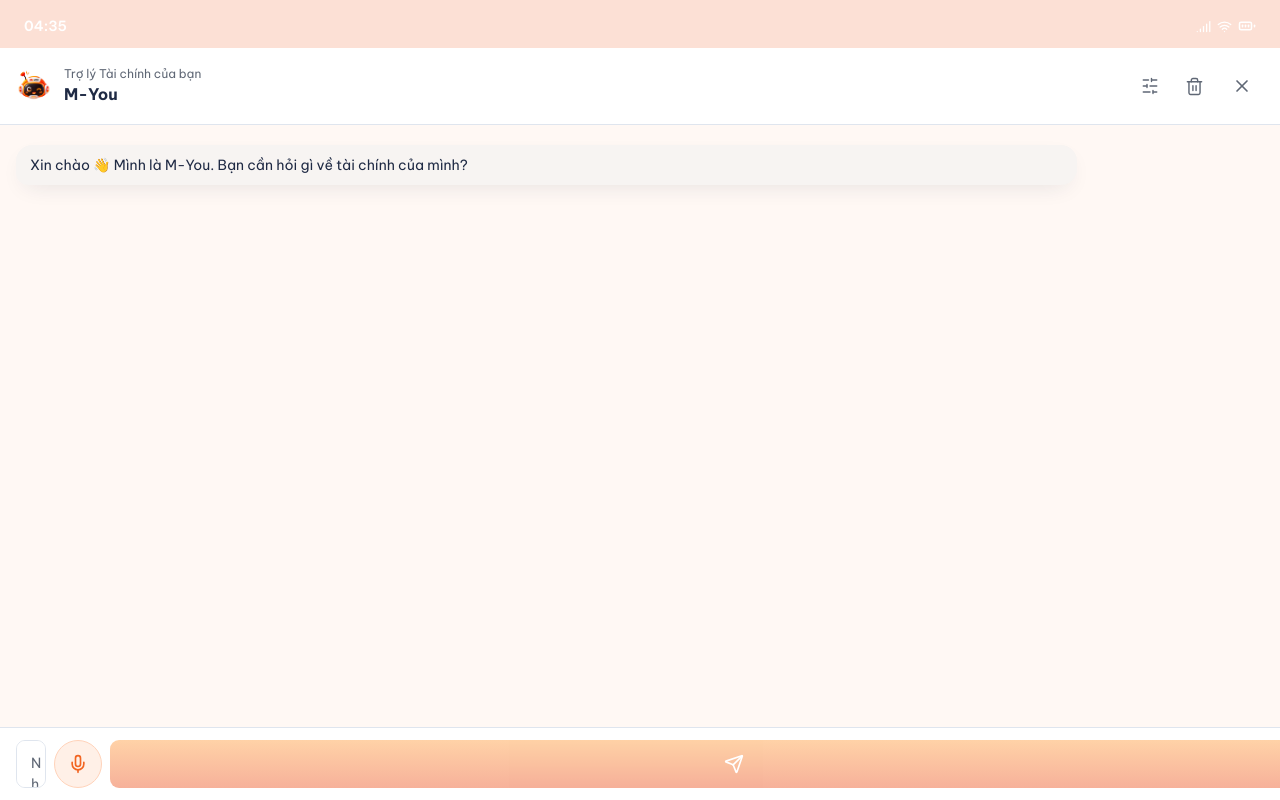
Scenario: M-You voice composer › keeps a recognized command editable, with no local guidance from the STT's own intent hint
Click the button named "Nhập bằng giọng nói" at (78,764), box left=54, top=740, right=102, bottom=788
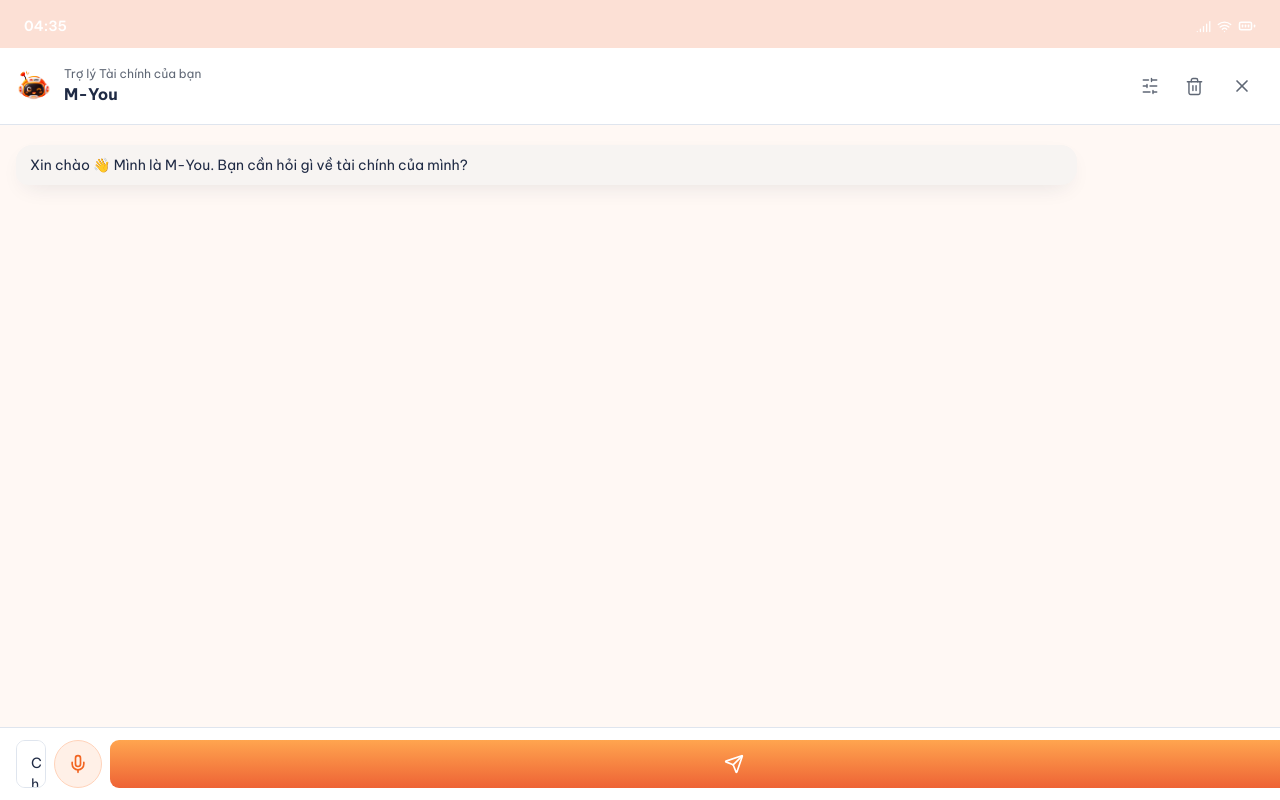
Expected: the text box with placeholder "Nhắn tin cho M-You…" holds "Chuyển 500.000 VND sang hũ Ăn uống", left=16, top=740, right=46, bottom=788
